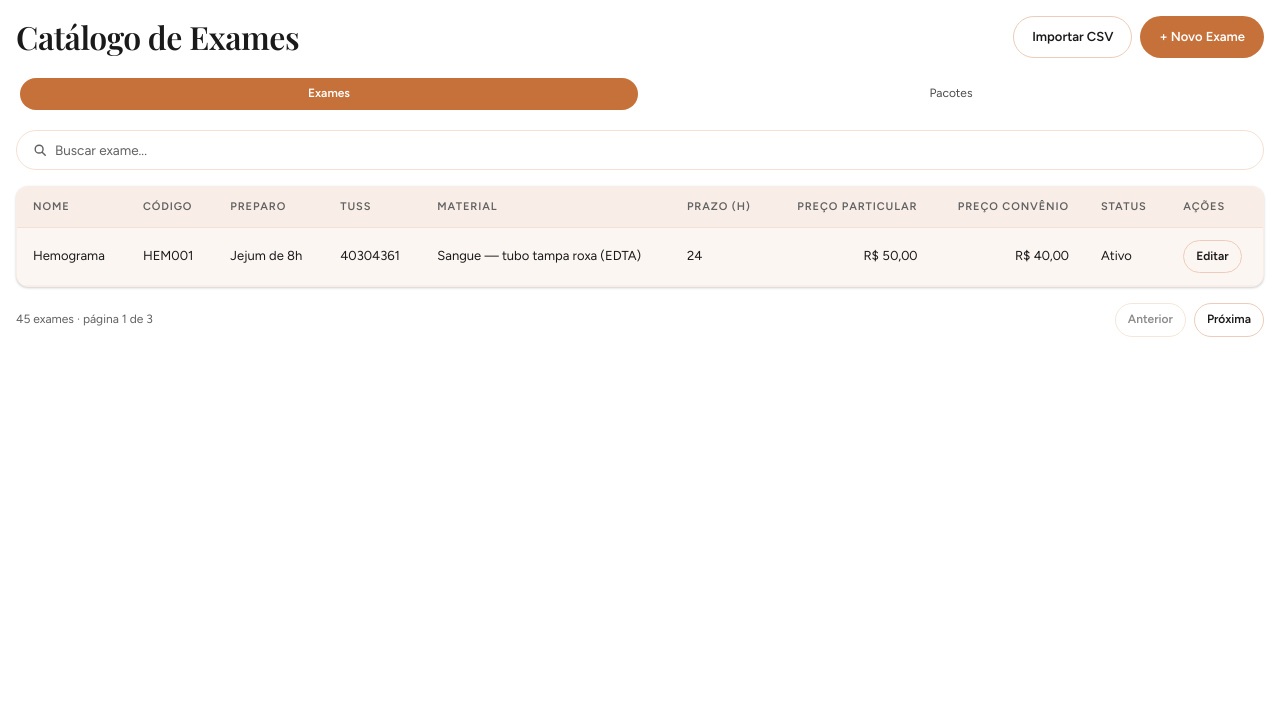
Test: Catalog › mostra "Importar CSV" só para admin, só na aba Exames, e abre o modal
This screenshot has width=1280, height=720.
Click the button "Importar CSV" at (1073, 37), box x1=1013 y1=16 x2=1132 y2=58
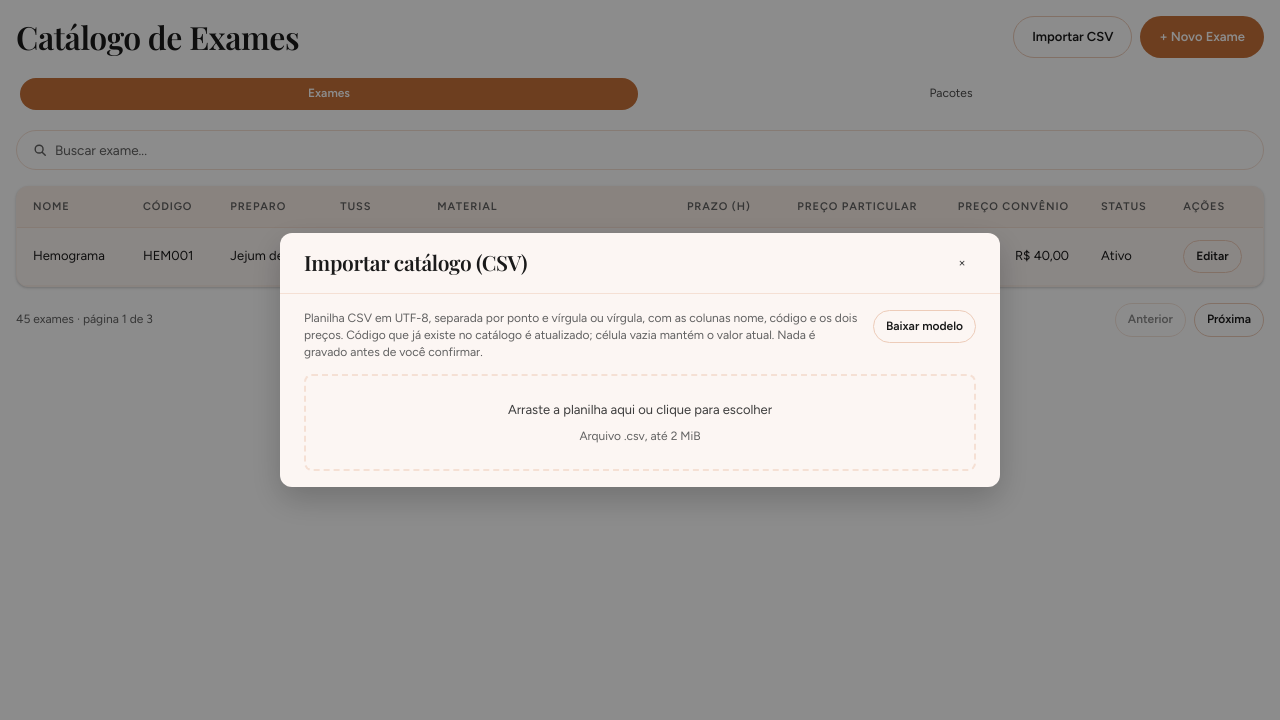
Result: the dialog "Importar catálogo" is shown at x1=280 y1=233 x2=1000 y2=487
Click the button named "Fechar" at (962, 263), box x1=948 y1=249 x2=976 y2=277
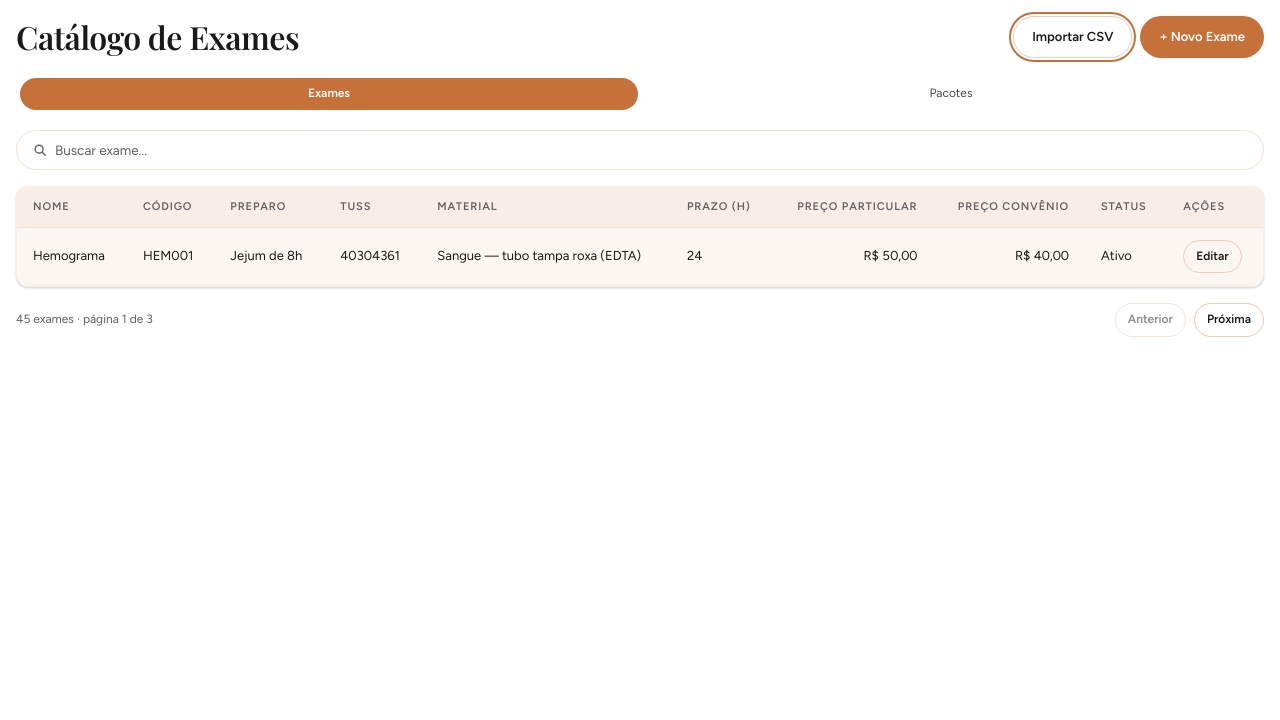
Click the tab "Pacotes" at (951, 94), box x1=642 y1=78 x2=1260 y2=110
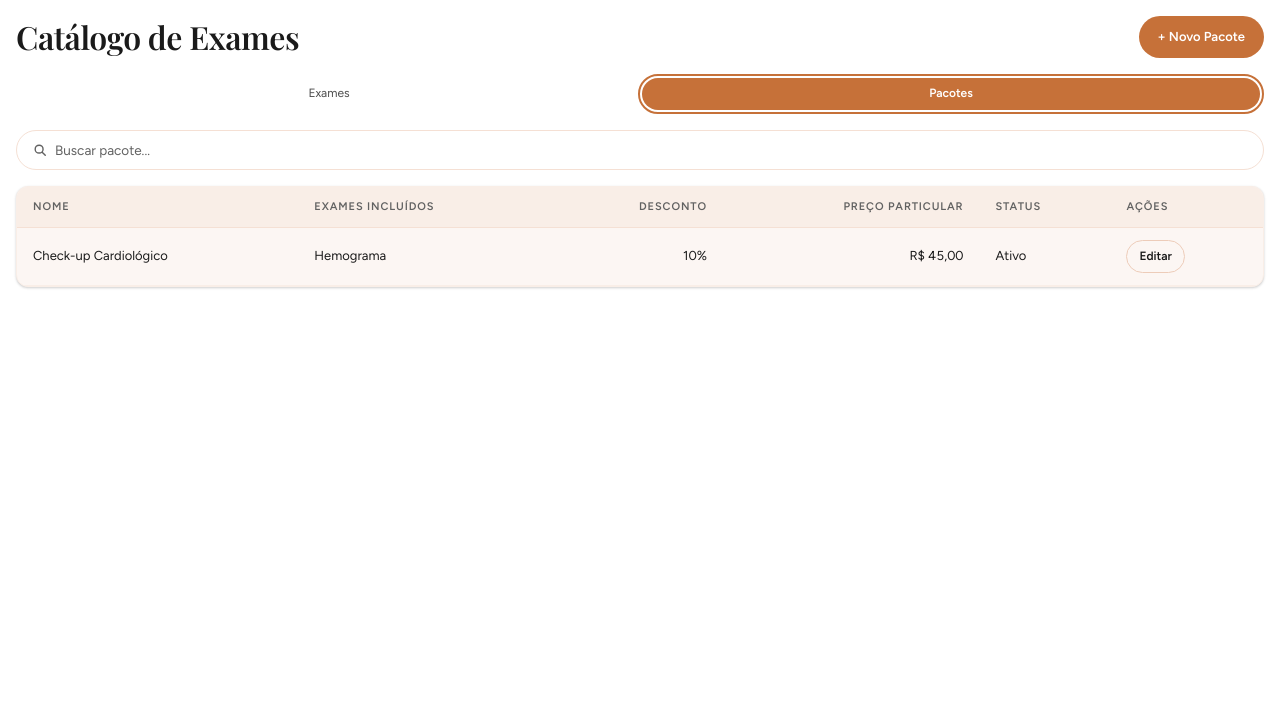
Result: the button "Importar CSV" is gone
